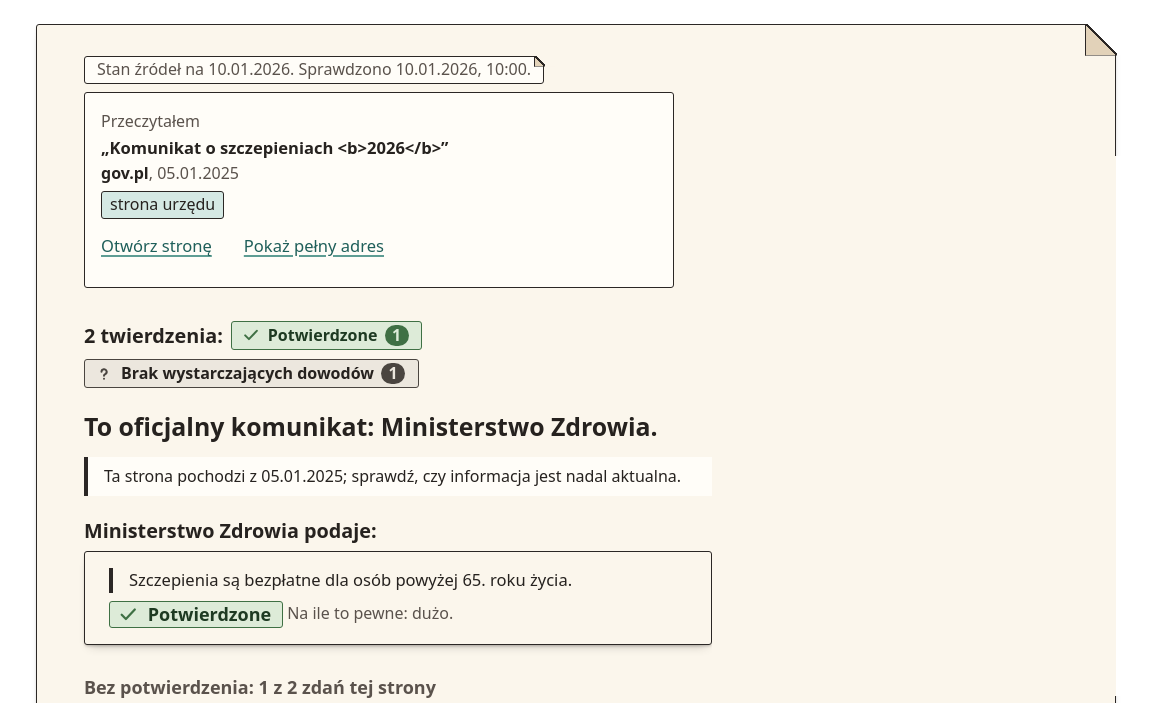
Test: blok "Przeczytałem" › pełny adres dopiero po rozwinięciu
Click the button "Pokaż pełny adres". click: (314, 247)
box: [236,223,392,271]
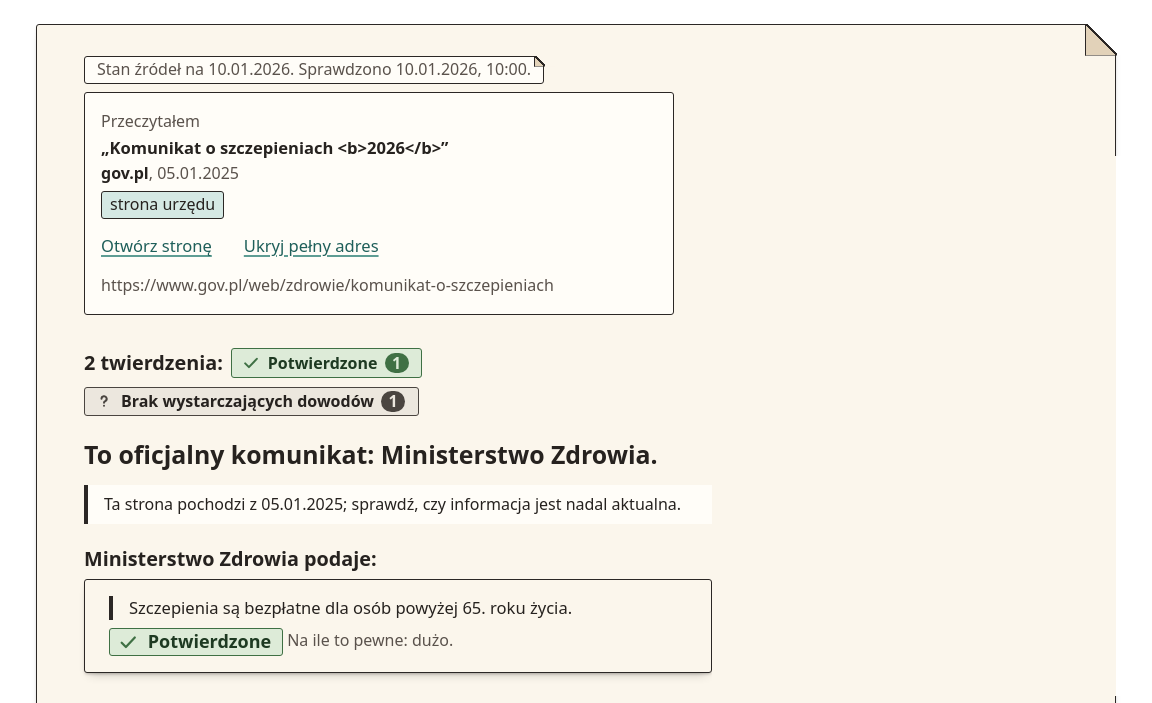
Check: the text "https://www.gov.pl/web/zdrowie/komunikat-o-szczepieniach" is shown, box [101,274,554,296]
